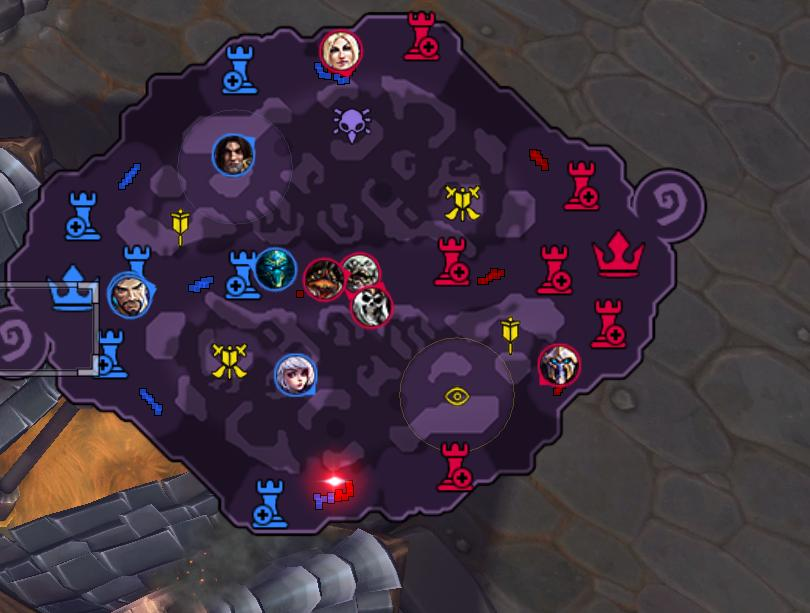blue nexus: (45, 262, 98, 312)
blue player: (106, 270, 154, 320), (272, 352, 322, 400), (252, 247, 297, 292), (212, 133, 255, 177)
blue tower: (86, 325, 138, 387), (61, 184, 102, 248), (220, 43, 259, 96), (250, 476, 288, 528), (224, 248, 260, 300)
red nexus: (591, 229, 645, 278)
red player: (534, 341, 584, 389), (319, 29, 361, 76), (302, 257, 345, 302), (350, 283, 392, 329), (339, 252, 381, 297)
red tower: (435, 441, 474, 492), (402, 10, 440, 62), (562, 159, 600, 211), (590, 297, 627, 349), (535, 243, 572, 295), (433, 236, 471, 286)
